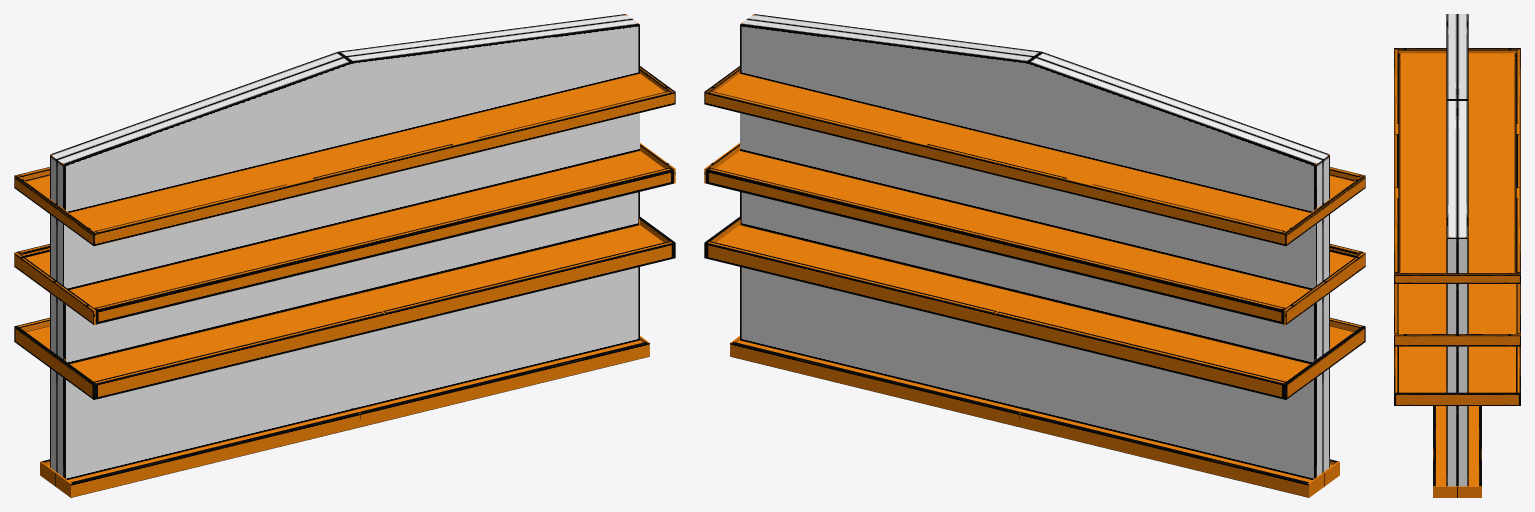
The model's file is prateleira.fbx.
The picture shows the model from 3 angles, left to right: view 1: azimuth 30°, elevation 25°; view 2: azimuth 150°, elevation 25°; view 3: azimuth 270°, elevation 25°; orthographic projection. The views are drawn at different scales.
Parts seen in each view (by area): view 1: Cube; view 2: Cube; view 3: Cube.
Boxes of the visible parts, <box> form: Cube: <box>14,14,675,497</box>; Cube: <box>704,14,1365,497</box>; Cube: <box>1394,14,1520,497</box>.
Bounding box in the file's own units: 1230 × 725 × 292.
